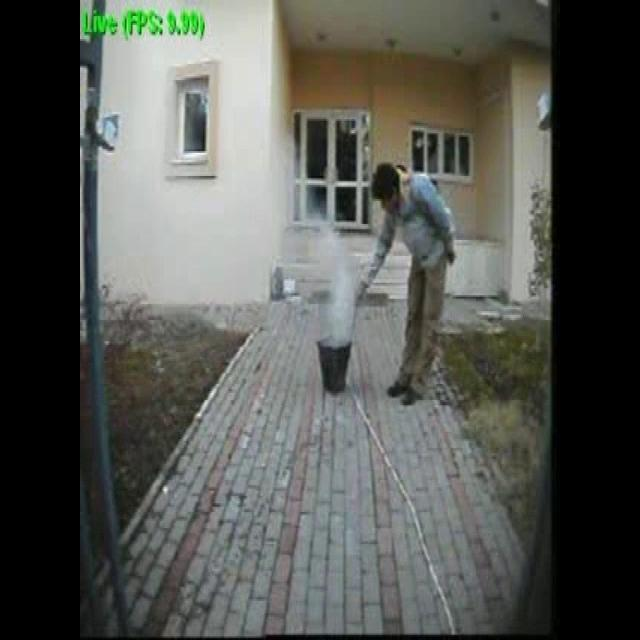Smoke: (224, 136, 357, 348)
